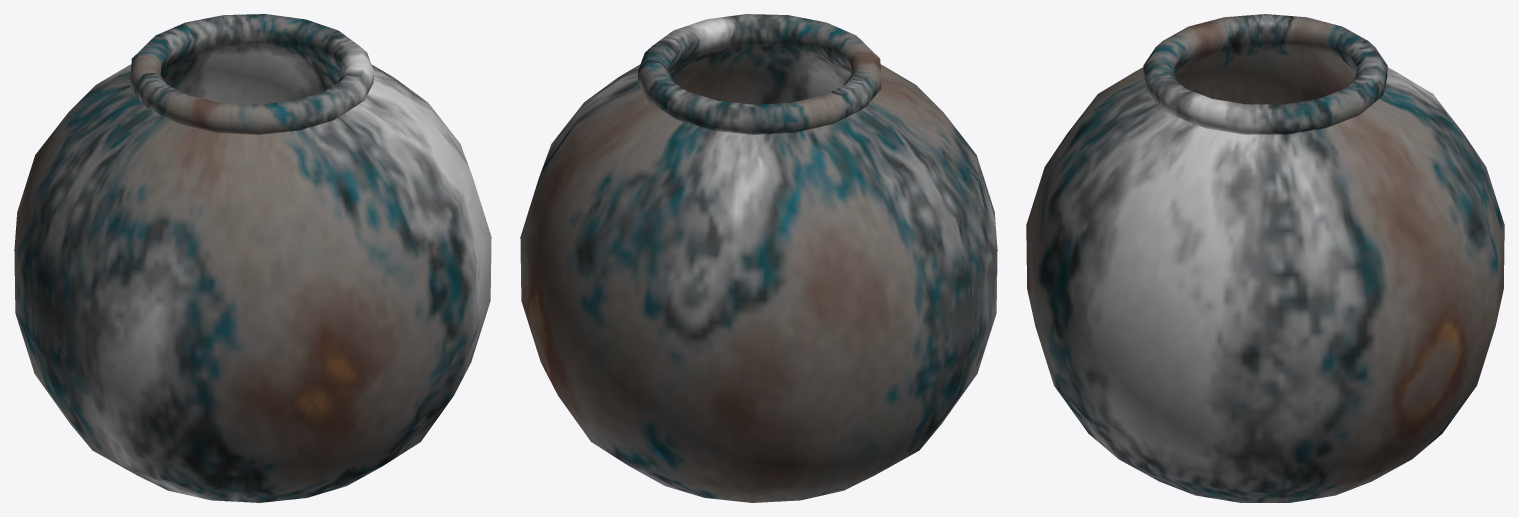
The model's file is Vase_Marble_Spherical_Open_Lipped.fbx.
3 views of the same model, side by side, from view 1: azimuth 30°, elevation 25°; view 2: azimuth 150°, elevation 25°; view 3: azimuth 270°, elevation 25° (orthographic).
Visible parts, largest first — view 1: Vase_Marble_Spherical_Open_Lipped; view 2: Vase_Marble_Spherical_Open_Lipped; view 3: Vase_Marble_Spherical_Open_Lipped.
Boxes of the visible parts, box(x1,y1,x2,y2) form: Vase_Marble_Spherical_Open_Lipped: box(14, 14, 491, 502); Vase_Marble_Spherical_Open_Lipped: box(520, 14, 997, 502); Vase_Marble_Spherical_Open_Lipped: box(1026, 14, 1504, 502).
Size of the model in its own units: 126 by 118 by 127.
